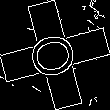O_E: (25, 28, 85, 82)
